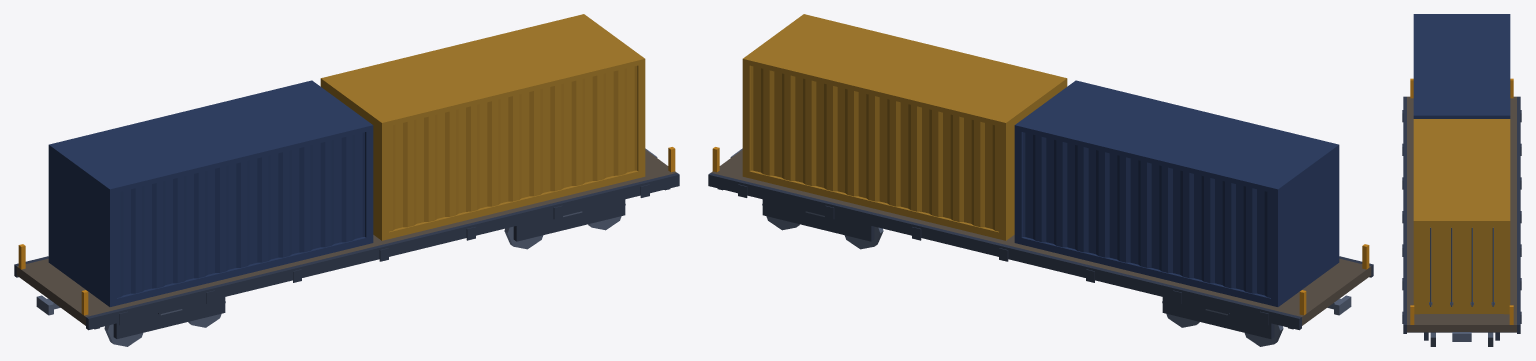
File: port_flatcar.glb
3 renders of one model, left to right at view 1: azimuth 30°, elevation 25°; view 2: azimuth 150°, elevation 25°; view 3: azimuth 270°, elevation 25°, orthographic. The views are drawn at different scales.
Visible parts, largest first — view 1: container_navy, container_ochre, underframe, deck, fittings, end_post; view 2: container_navy, container_ochre, underframe, deck, fittings, end_post; view 3: container_ochre, container_navy, deck, underframe, fittings, end_post.
Boxes of the visible parts, box(x1,y1,x2,y2) form: container_navy: box(48, 80, 373, 306); container_ochre: box(320, 14, 645, 240); underframe: box(14, 173, 679, 338); deck: box(16, 149, 676, 325); fittings: box(36, 148, 657, 346); end_post: box(18, 147, 675, 315); container_navy: box(1014, 80, 1339, 306); container_ochre: box(742, 14, 1067, 240); underframe: box(708, 173, 1373, 338); deck: box(711, 149, 1371, 325); fittings: box(730, 148, 1351, 346); end_post: box(712, 147, 1369, 315); container_ochre: box(1413, 119, 1510, 314); container_navy: box(1413, 14, 1510, 118); deck: box(1407, 96, 1516, 332); underframe: box(1402, 96, 1521, 340); fittings: box(1429, 227, 1494, 346); end_post: box(1410, 78, 1513, 324).
Size of the model in its own units: 14 by 3.79 by 3.
